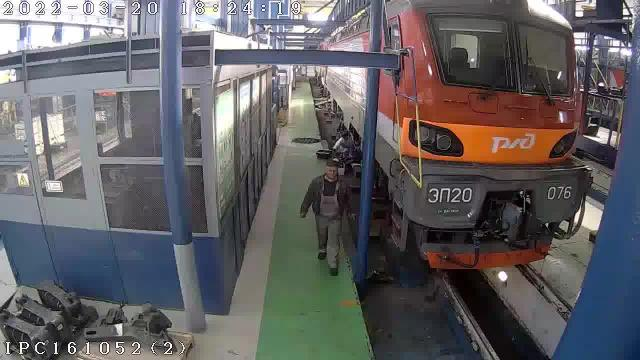person: (300, 159, 347, 275), (330, 131, 357, 158)
train: (375, 0, 591, 268)
